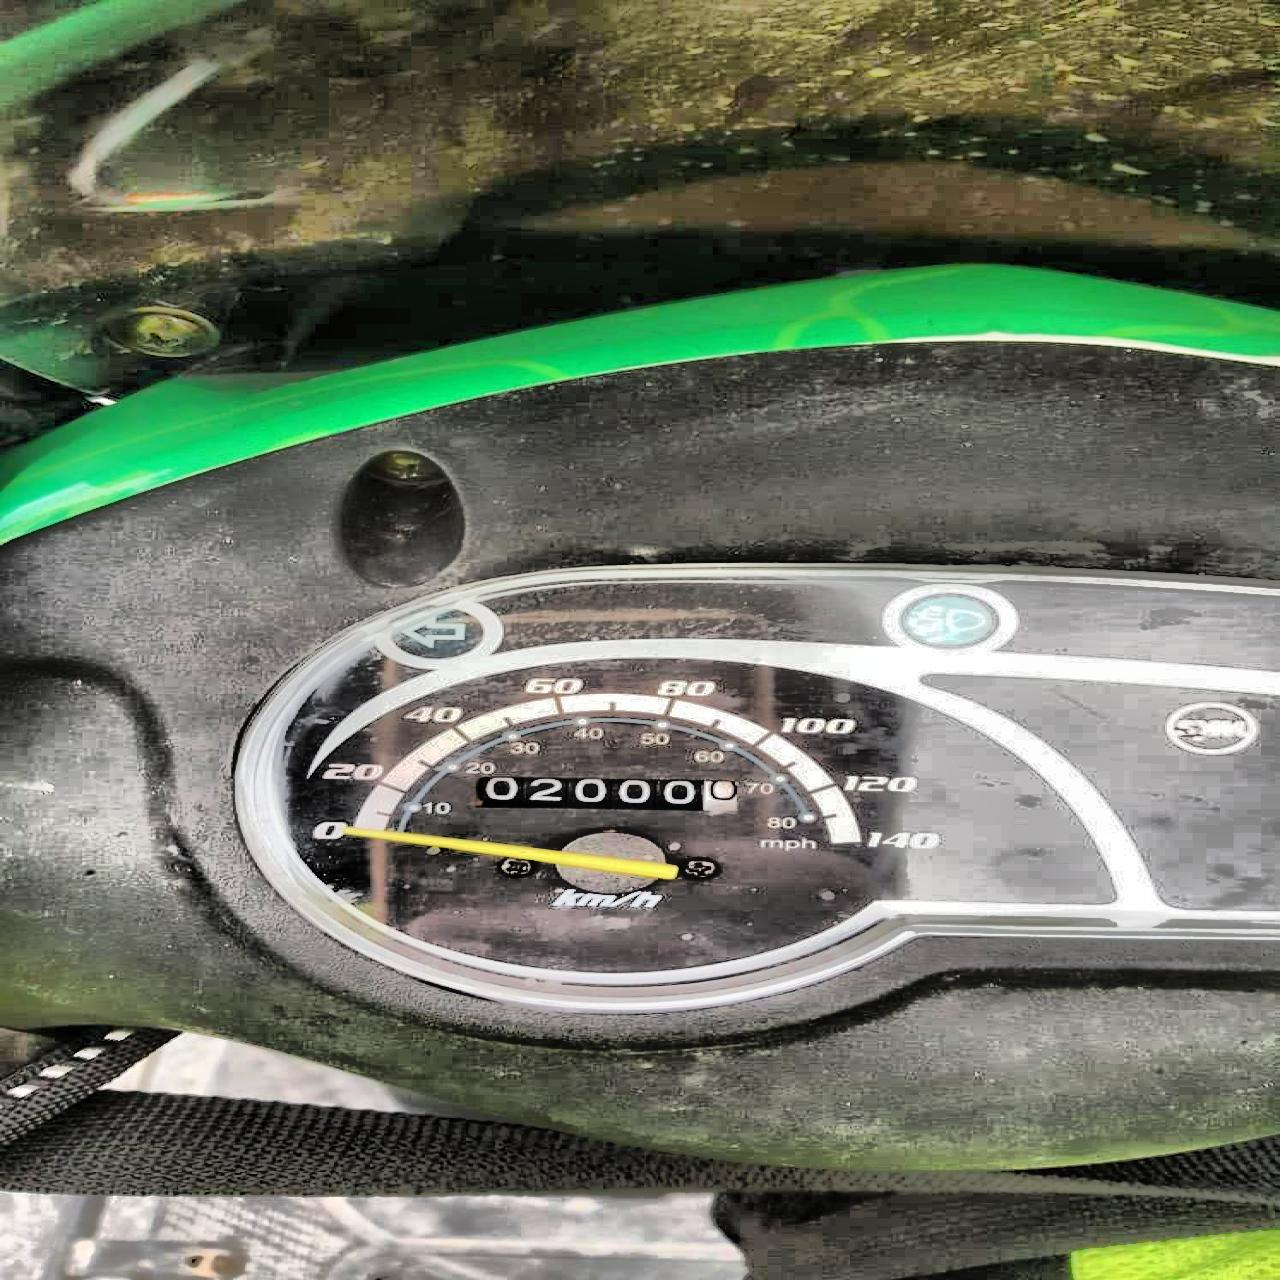0: (615, 778, 655, 806), (660, 778, 695, 806), (570, 778, 605, 804), (482, 776, 516, 802), (704, 777, 738, 802)
2: (524, 778, 561, 804)
odometer: (471, 772, 744, 815)
